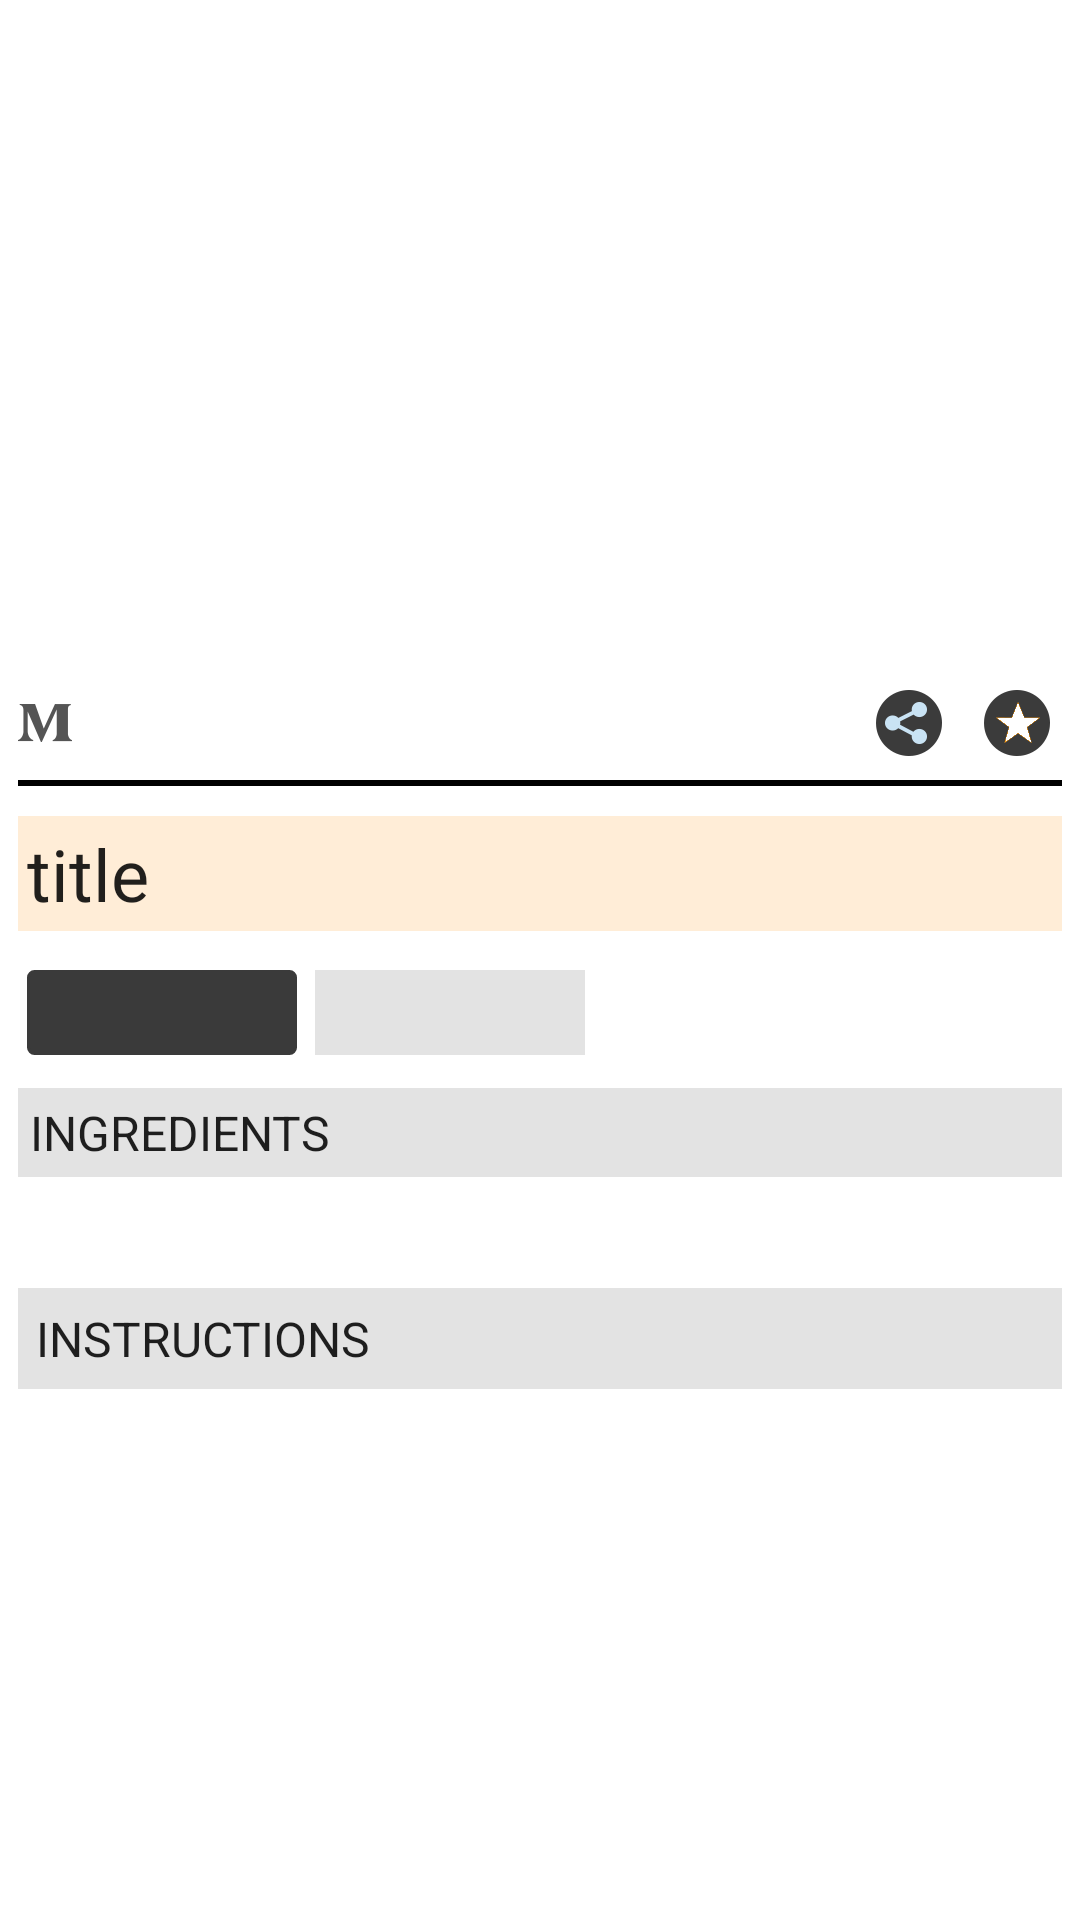

Icons on this 1080*1920 Android screen, each with its box as box(x1, y1, x2, y2):
details share: box(876, 690, 942, 756)
Favorite button to mark the recipe as favorite: box(984, 690, 1050, 756)
